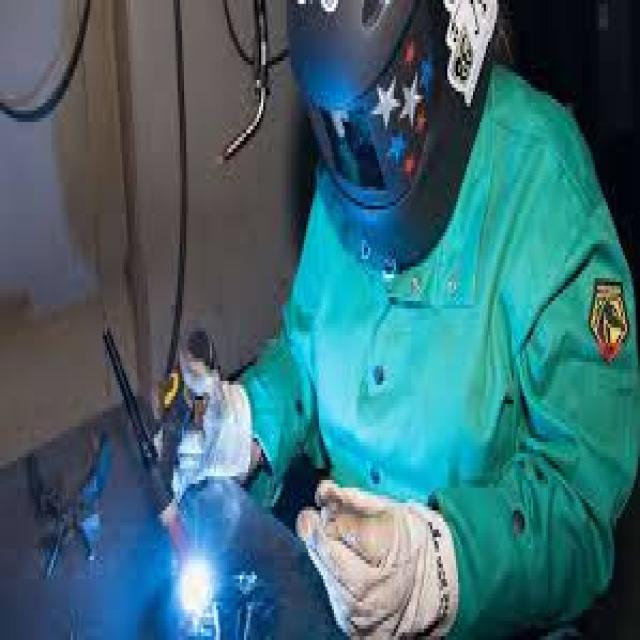welding: (176, 556, 213, 614)
